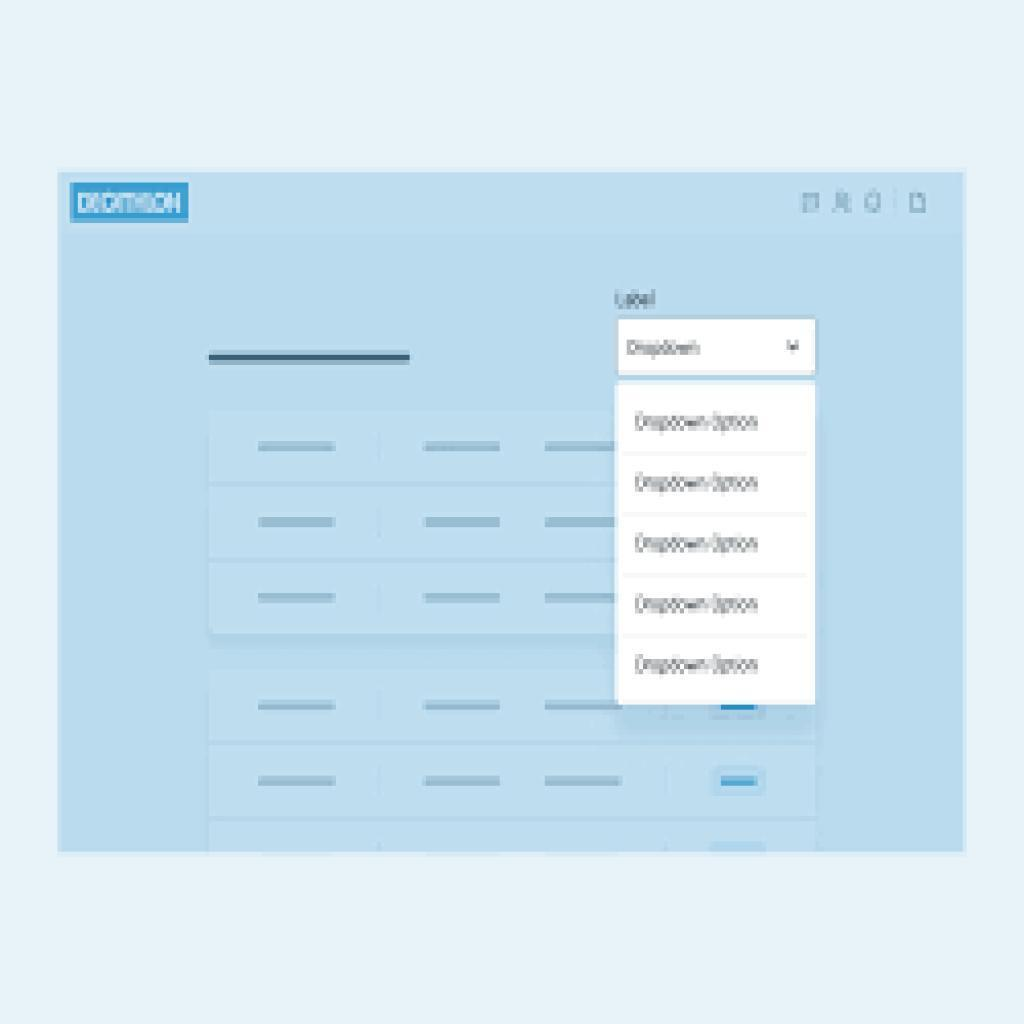dropdown: (619, 321, 818, 376)
icon: (796, 188, 827, 218), (829, 189, 859, 219), (863, 186, 890, 218), (904, 190, 932, 218)
